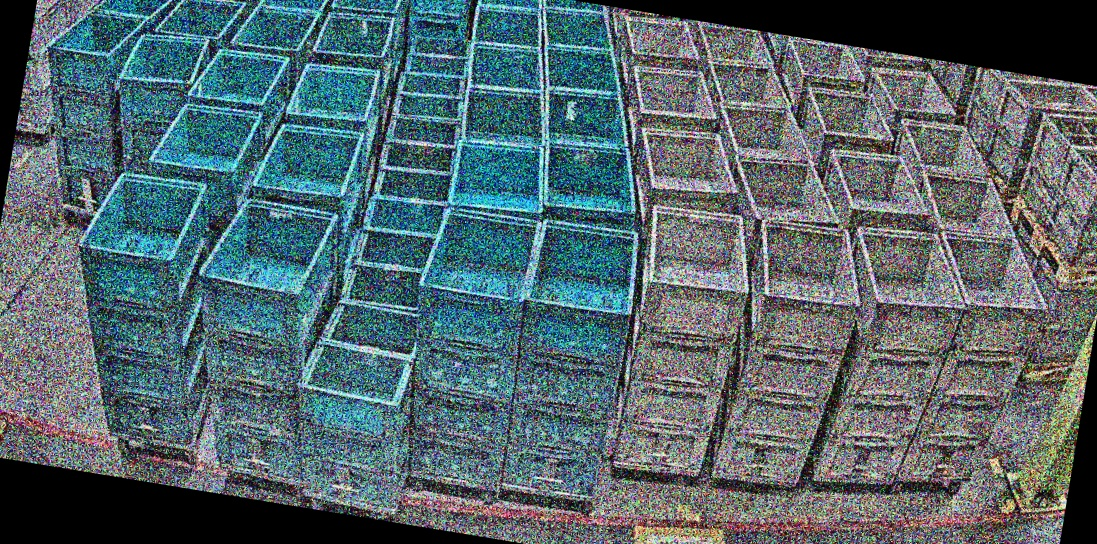4G: (809, 220, 978, 502), (710, 212, 875, 497), (894, 226, 1058, 505), (610, 198, 763, 484)
B4: (45, 164, 238, 453), (165, 188, 349, 489), (386, 202, 548, 494), (497, 216, 647, 507), (101, 23, 215, 189)
B8: (277, 292, 431, 512)
